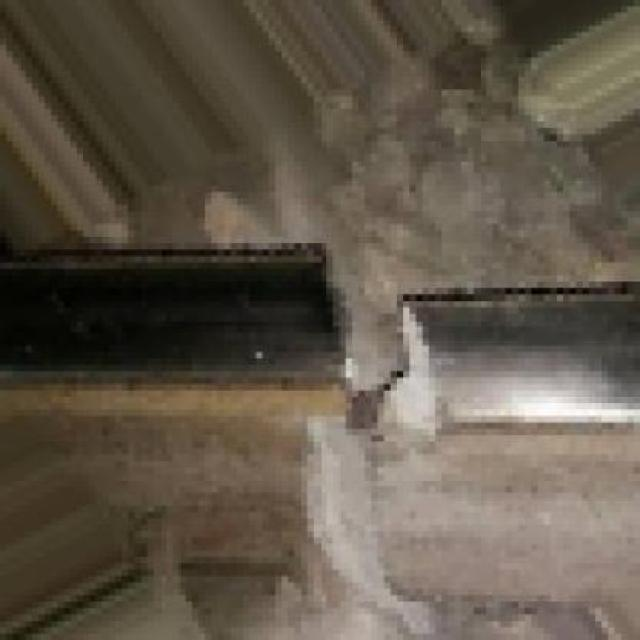defective: (199, 225, 537, 640)
